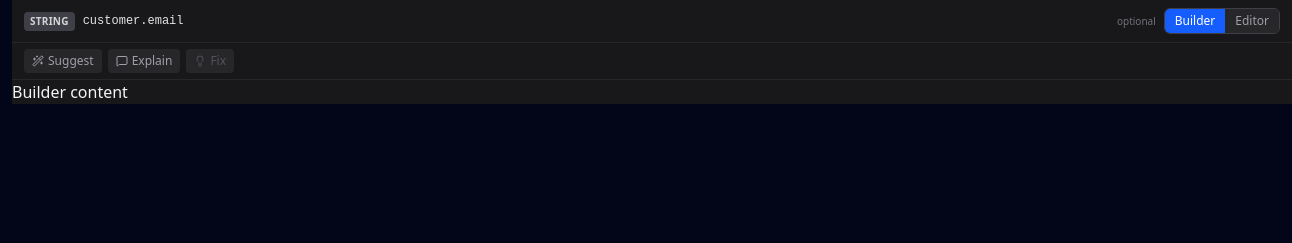
Scenario: ChainBuilderShell — Explain Rule (FS-041) › shows error state with Try again button
The image size is (1292, 243).
Click the button with test id "chain-shell-ai-explain" at (144, 61), box [108,49,180,73]
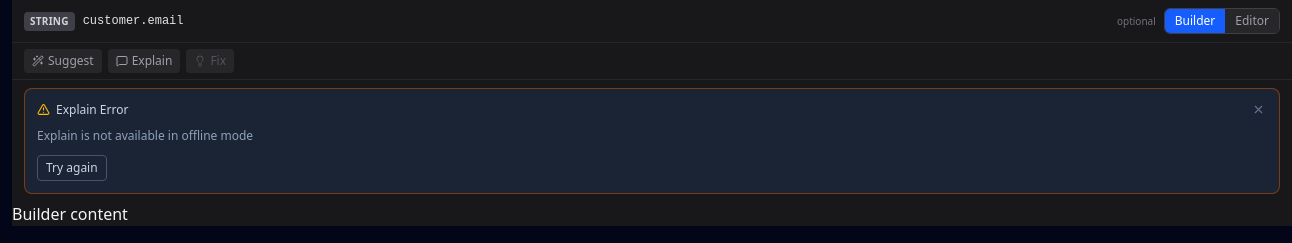
Check: the message "Explain Error Explain is not available in offline mode Try again" is shown, box [24,88,1280,194]
Check: the message with test id "explanation-panel" shows "Explain is not available in offline mode", box [37,127,253,144]
Check: the button "Try again" is shown, box [37,154,107,180]
